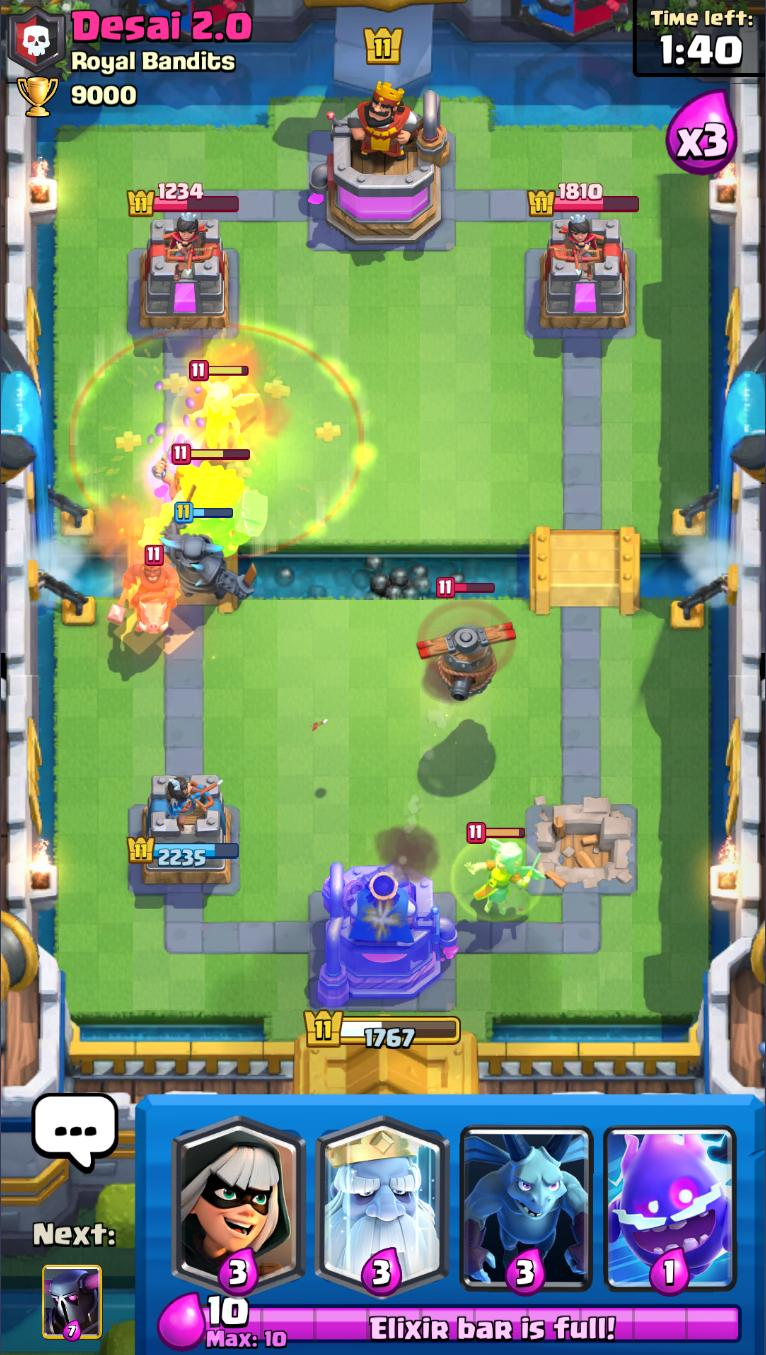BanditDeck: (166, 1096, 312, 1295)
ElectroSpiritDeck: (597, 1097, 742, 1298)
Elixir: (203, 1296, 744, 1351)
EnemyTower: (135, 216, 234, 331), (537, 216, 633, 333)
FlyingMachine: (419, 577, 514, 704)
Healer: (455, 822, 539, 920), (185, 360, 259, 450)
Hog: (108, 547, 180, 638)
KingTower: (307, 78, 453, 247)
MinionsDeck: (455, 1097, 598, 1293)
MyBarbarian: (152, 432, 193, 500)
MyKingHP: (302, 1010, 462, 1053)
MyKingTower: (315, 859, 460, 1009)
MyPekka: (159, 500, 260, 599)
MyPrincessTower: (128, 772, 242, 890)
MyPrincessTowerBrocken: (526, 798, 641, 900)
MyPrincessTowerHP: (127, 836, 241, 869)
PekkaNext: (41, 1262, 105, 1343)
RoyaleGhostDeck: (310, 1095, 451, 1290)
RuneGiant: (141, 443, 268, 559)
TowerPrincessHP: (528, 182, 640, 219), (128, 182, 241, 218)
